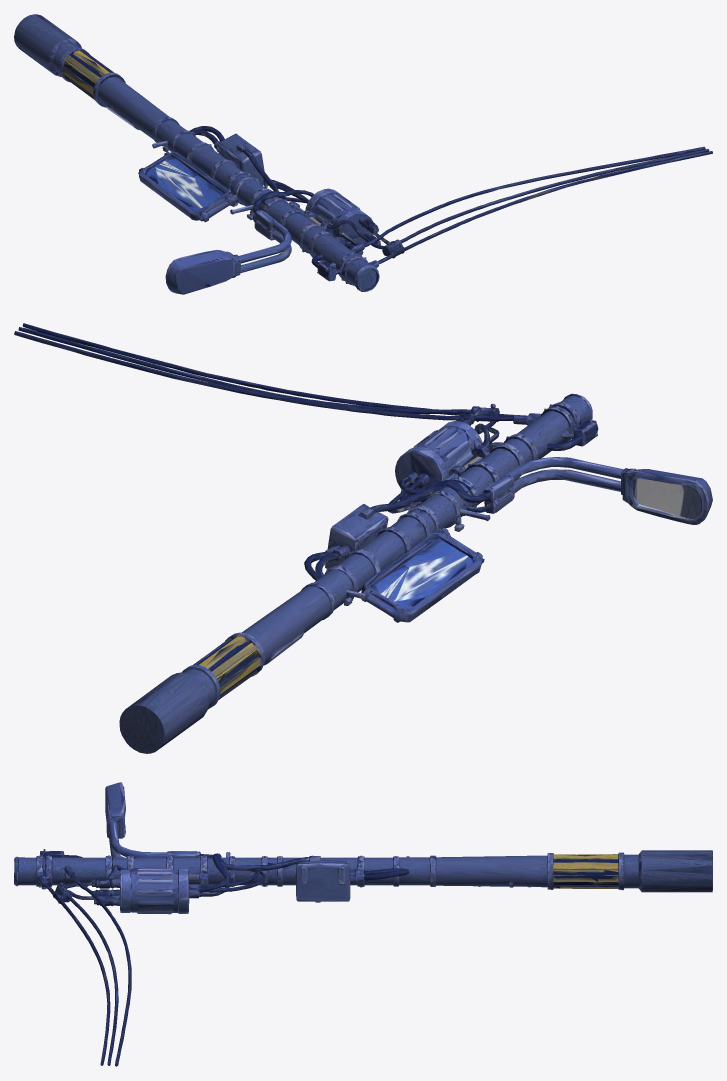
The model's file is street_light_pole.glb.
3 renders of one model, top to bottom at view 1: azimuth 30°, elevation 25°; view 2: azimuth 150°, elevation 25°; view 3: azimuth 270°, elevation 25°, orthographic. The views are drawn at different scales.
Size of the model in its own units: 1.75 by 0.1431 by 1.9.
Materials: 1 (1 with a texture image).
